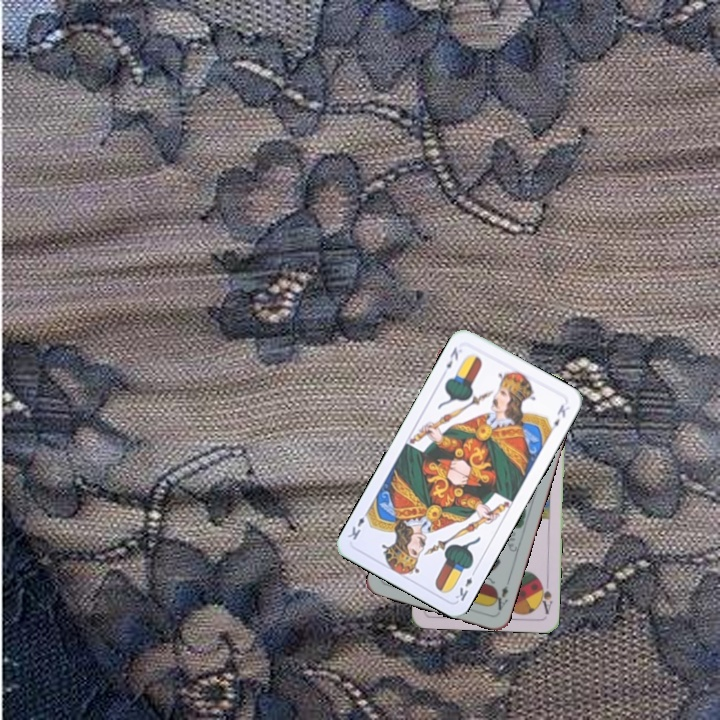EA: (488, 575, 513, 615)
EK: (451, 565, 479, 604), (442, 343, 461, 371)
SA: (536, 576, 555, 617)
